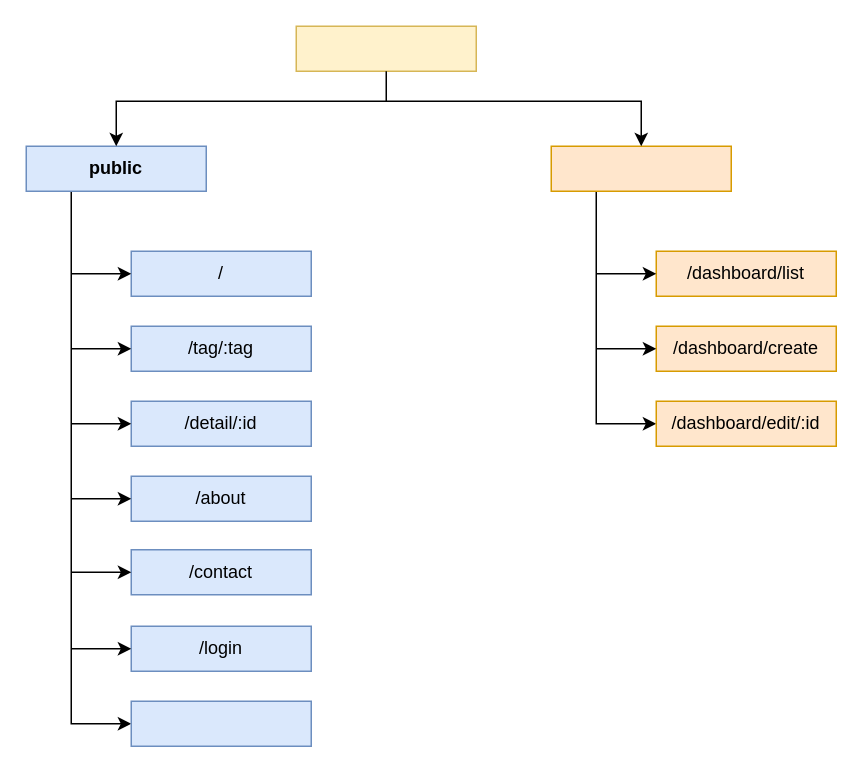
The diagram is 863 pixels wide and 773 high, and some of its shapes have lost their labels. Each missing label, with the centre of its shape:
"/register" belongs at pixel 220 723.
"FoodBlog" belongs at pixel 385 48.
"private" belongs at pixel 640 168.
